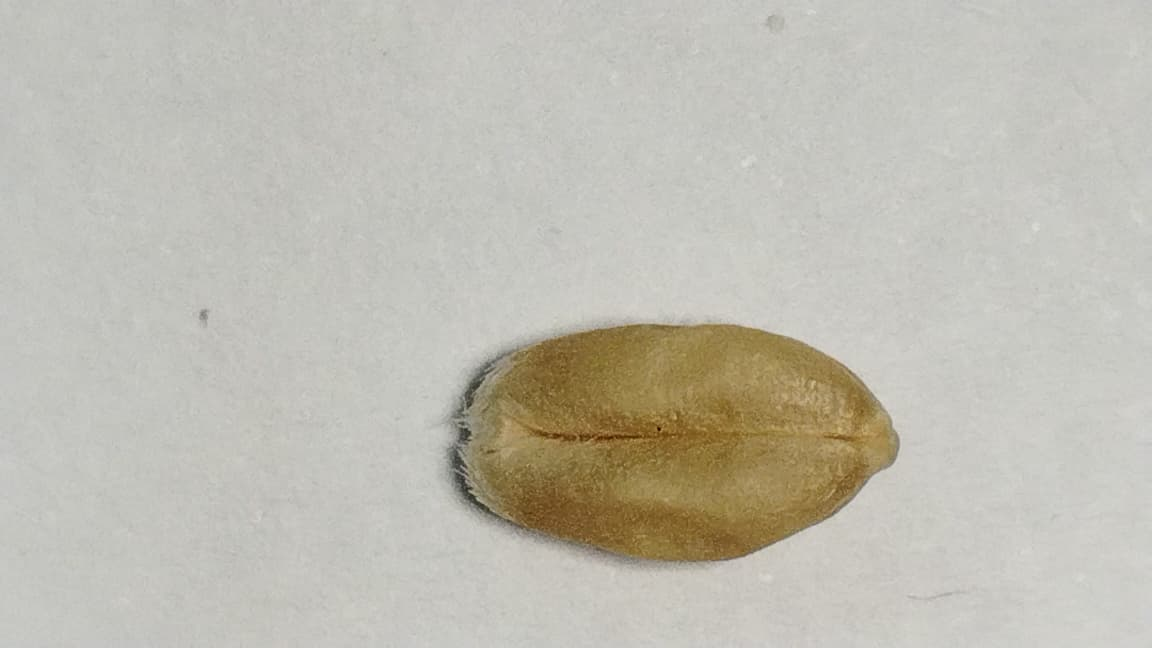healthy: (460, 325, 898, 560)
